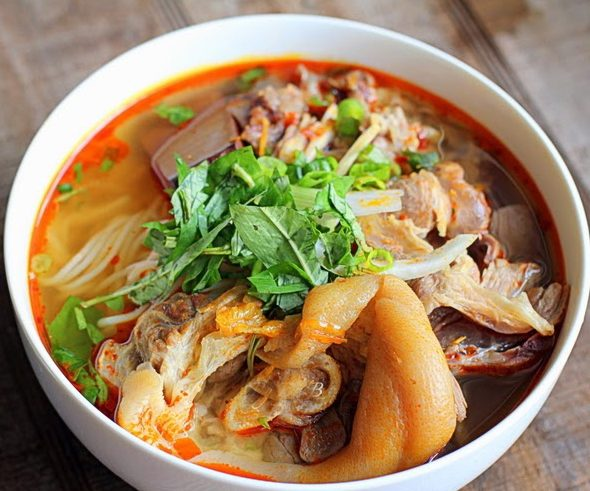beef: (432, 268, 555, 368), (267, 69, 381, 159), (382, 163, 486, 244)
pork: (137, 276, 451, 471)
vegetable: (207, 172, 356, 272)
